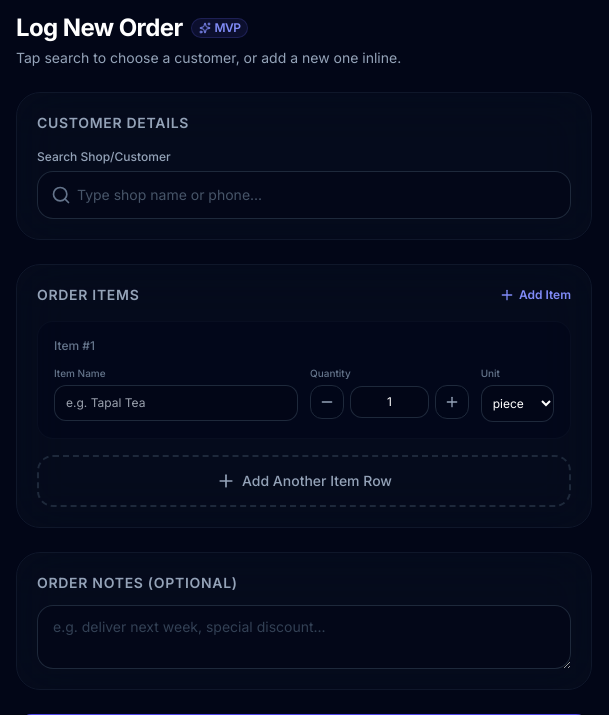
Test: NewOrder Form Component › allows adding and removing item rows
The width and height of the screenshot is (609, 715).
What coordinates should you click on to do the following:
click the button "Add Item"
I would click on:
 (535, 295)
Its box is [499,287,571,303].
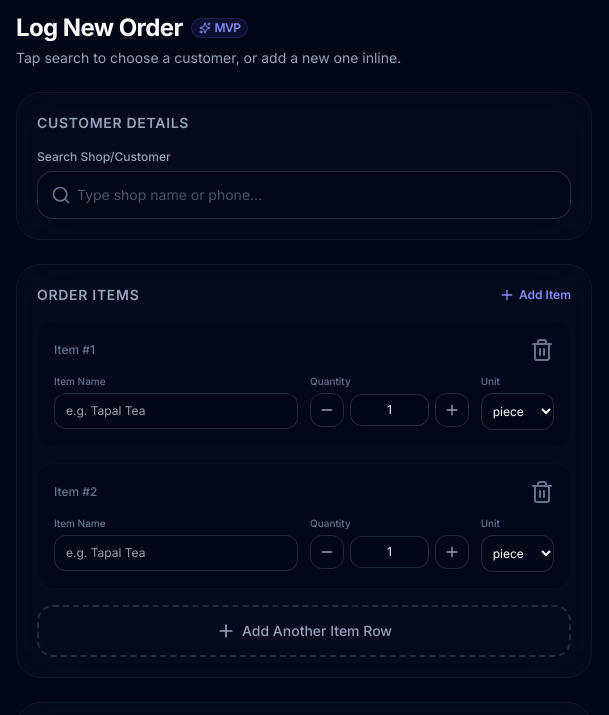
Now the number of fields with placeholder "e.g. Tapal Tea" is 2, box [54,393,298,429]; [54,535,298,571]
